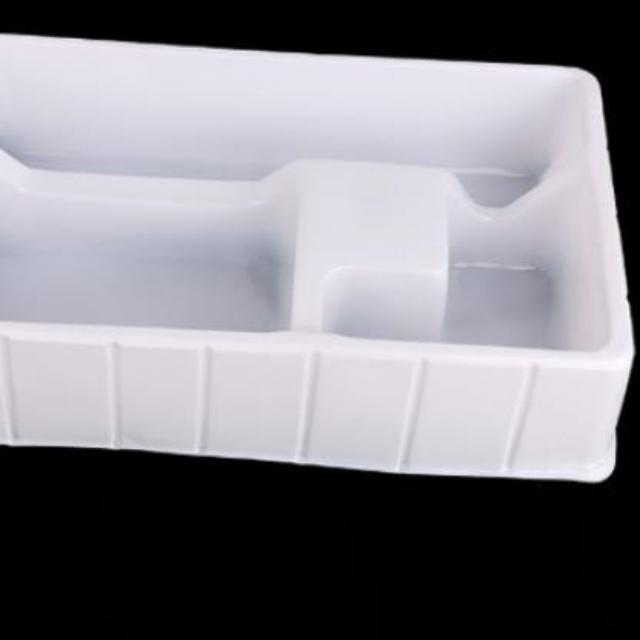plastic_box: (1, 26, 630, 486)
